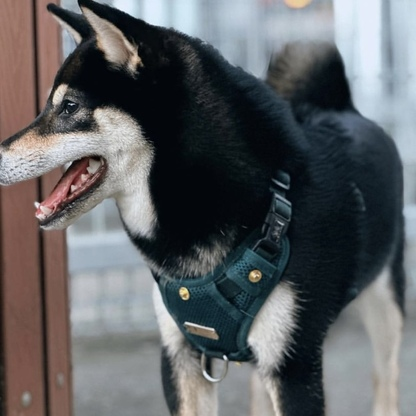shiba: (1, 1, 410, 416)
